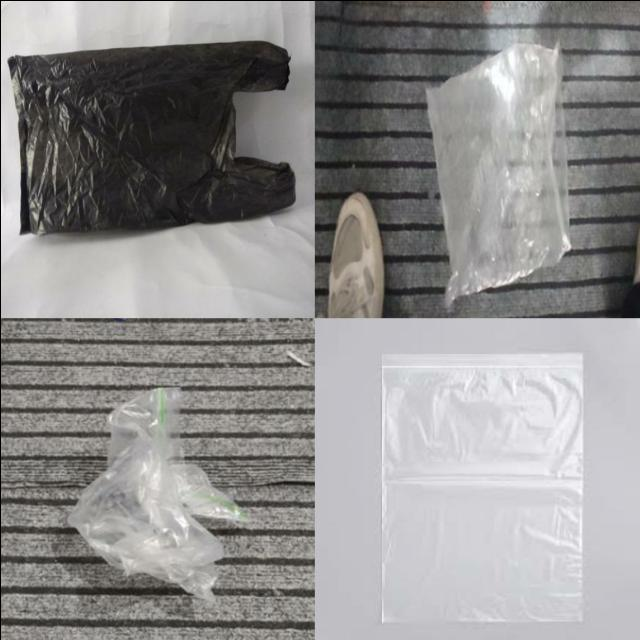plastik: (7, 41, 294, 233), (381, 354, 581, 621), (67, 387, 248, 600), (425, 42, 570, 306)
